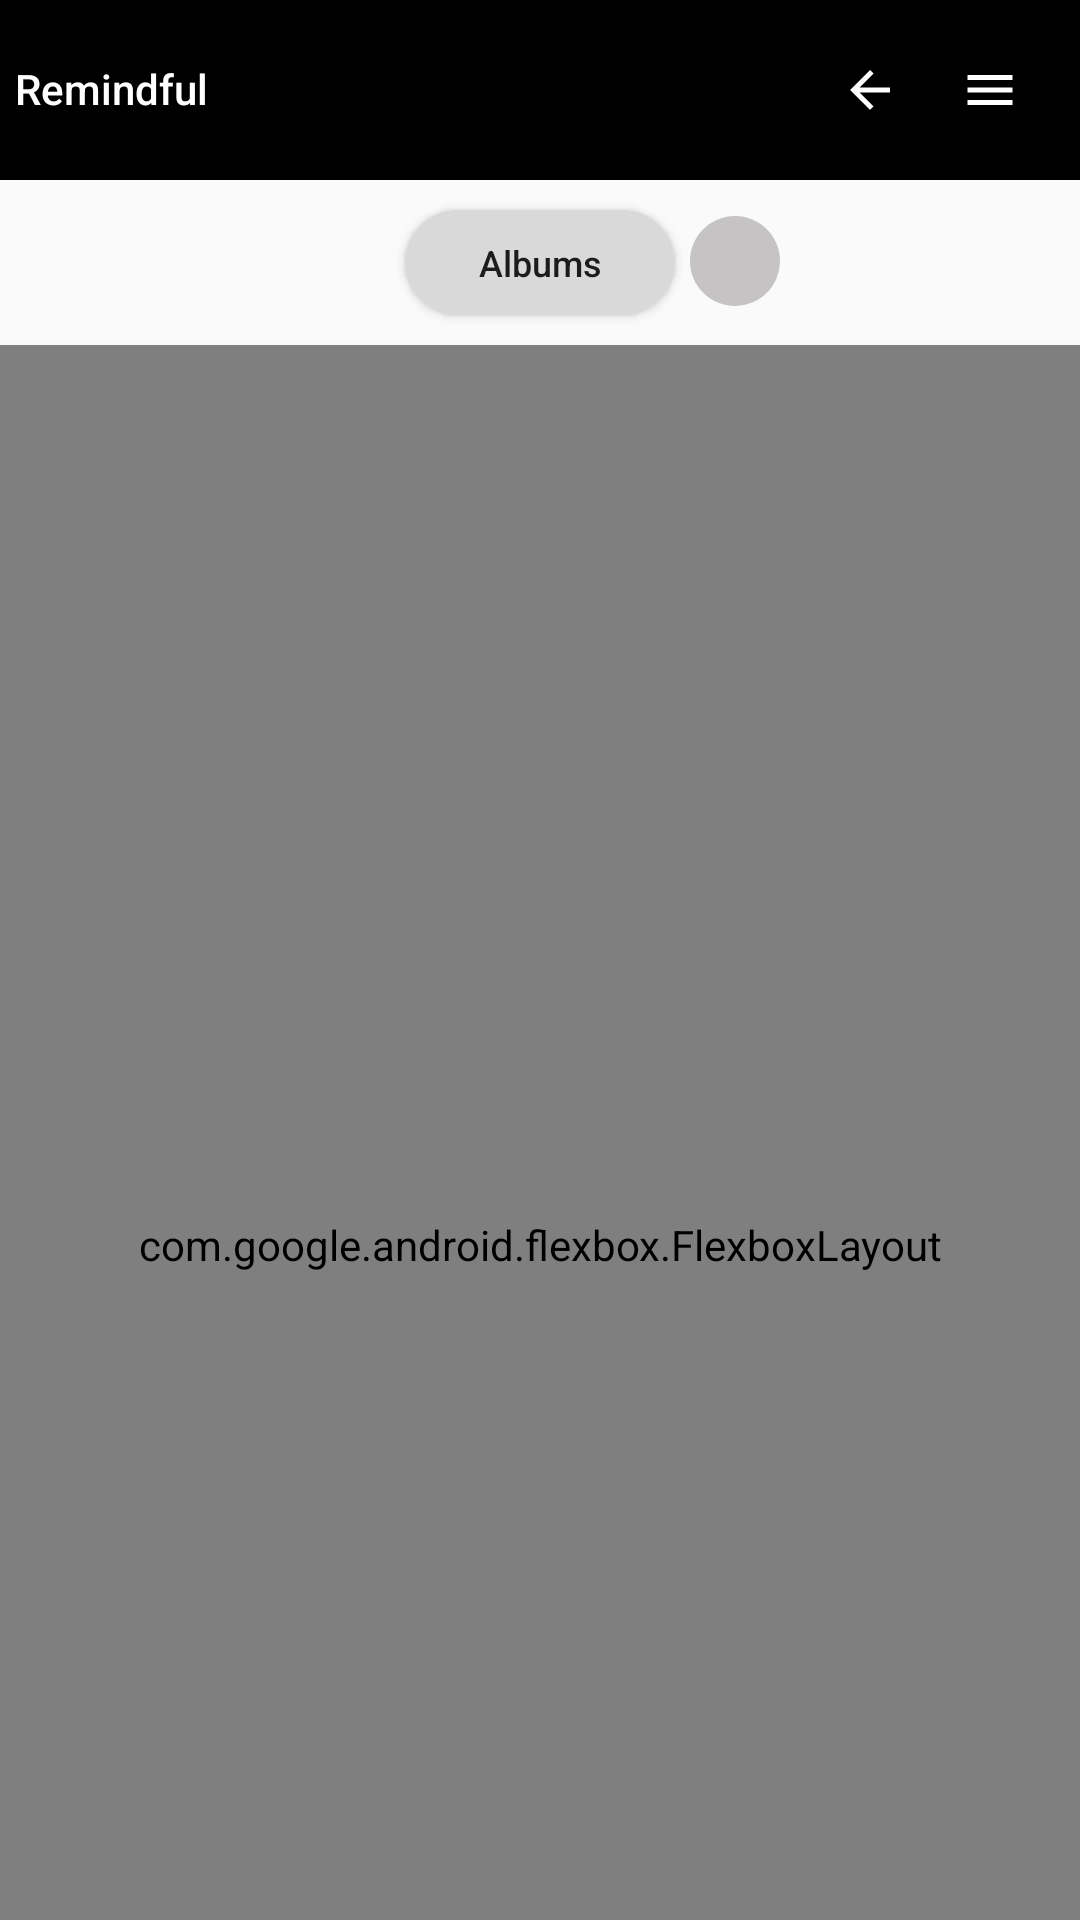

Named icons in this screenshot (1080 × 1920) and their centers, [x,y]:
arrow back: [870,90]
Menu Icon: [990,90]
